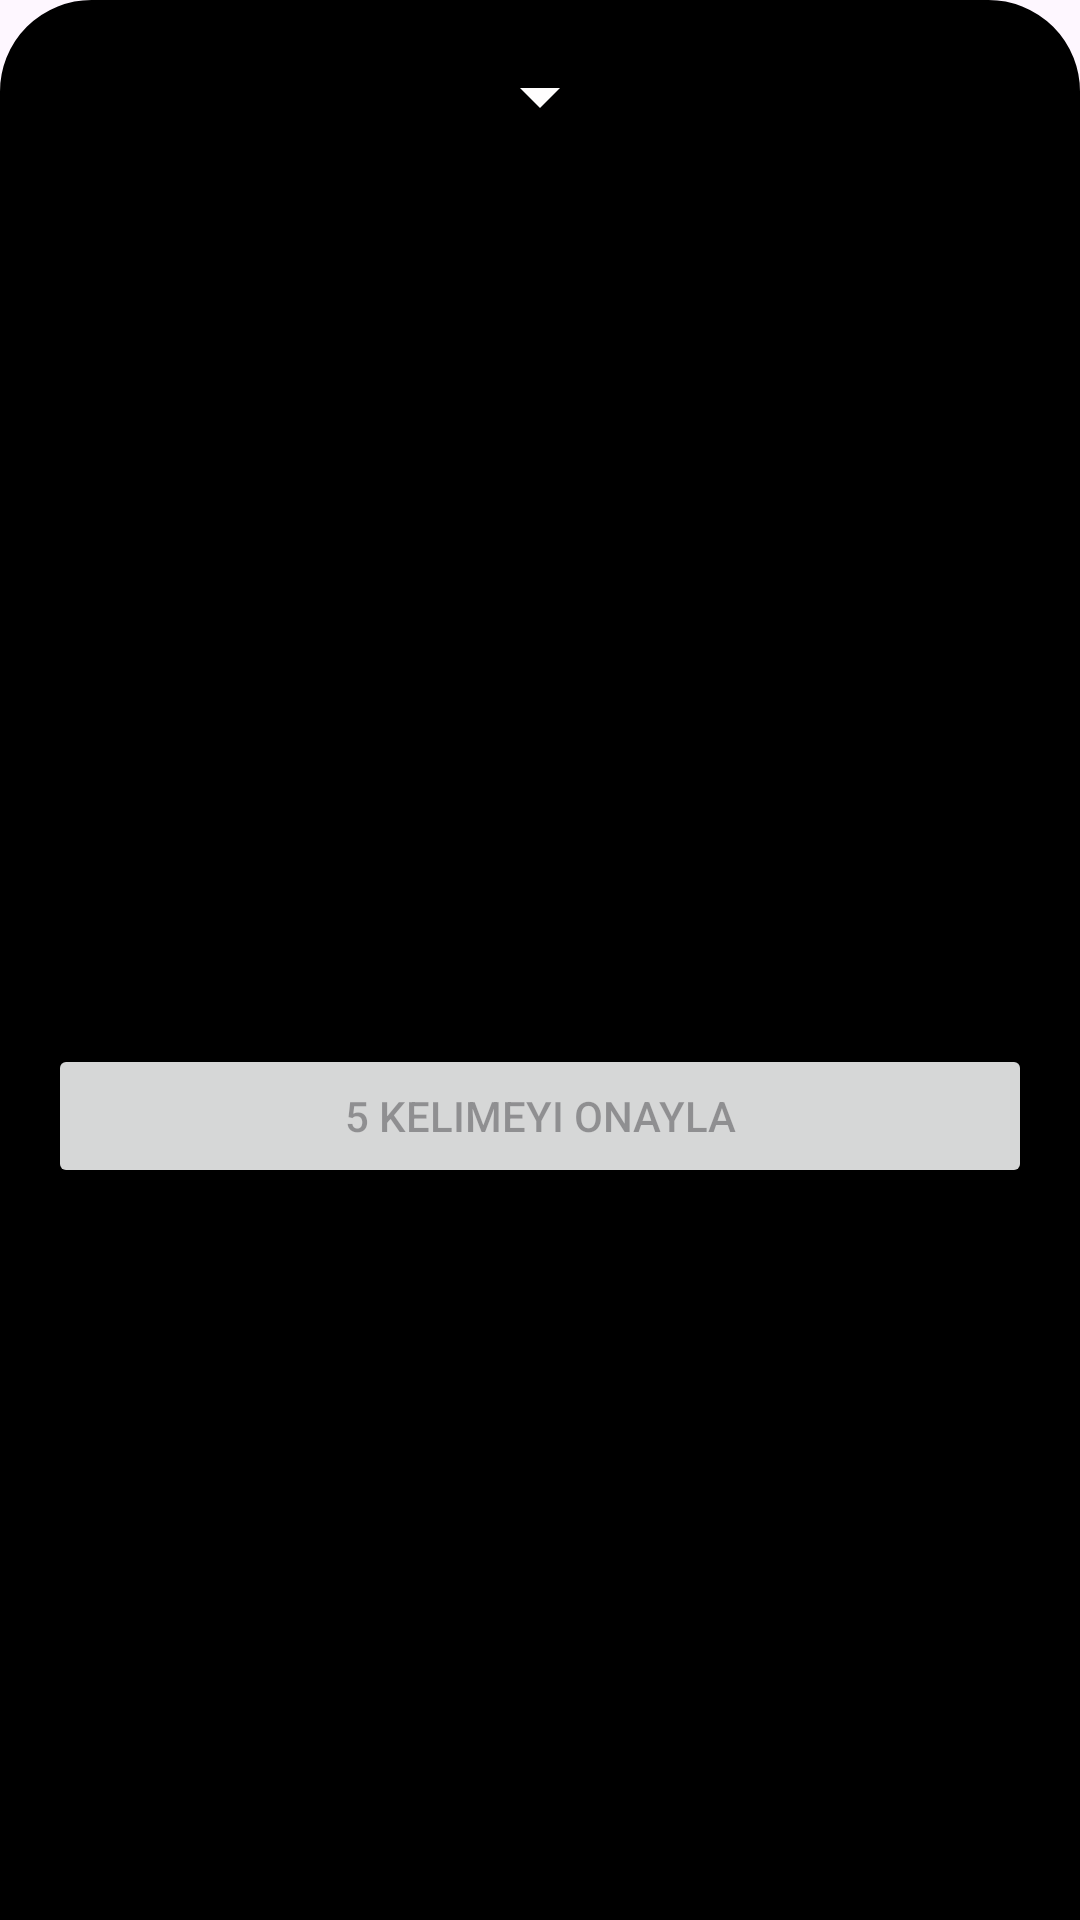

Locate icon controls on the screen. Image size 1080w x 1920h, boxes as detection(x1, y1, x2, y2).
arrow drop down: detection(520, 88, 560, 108)
